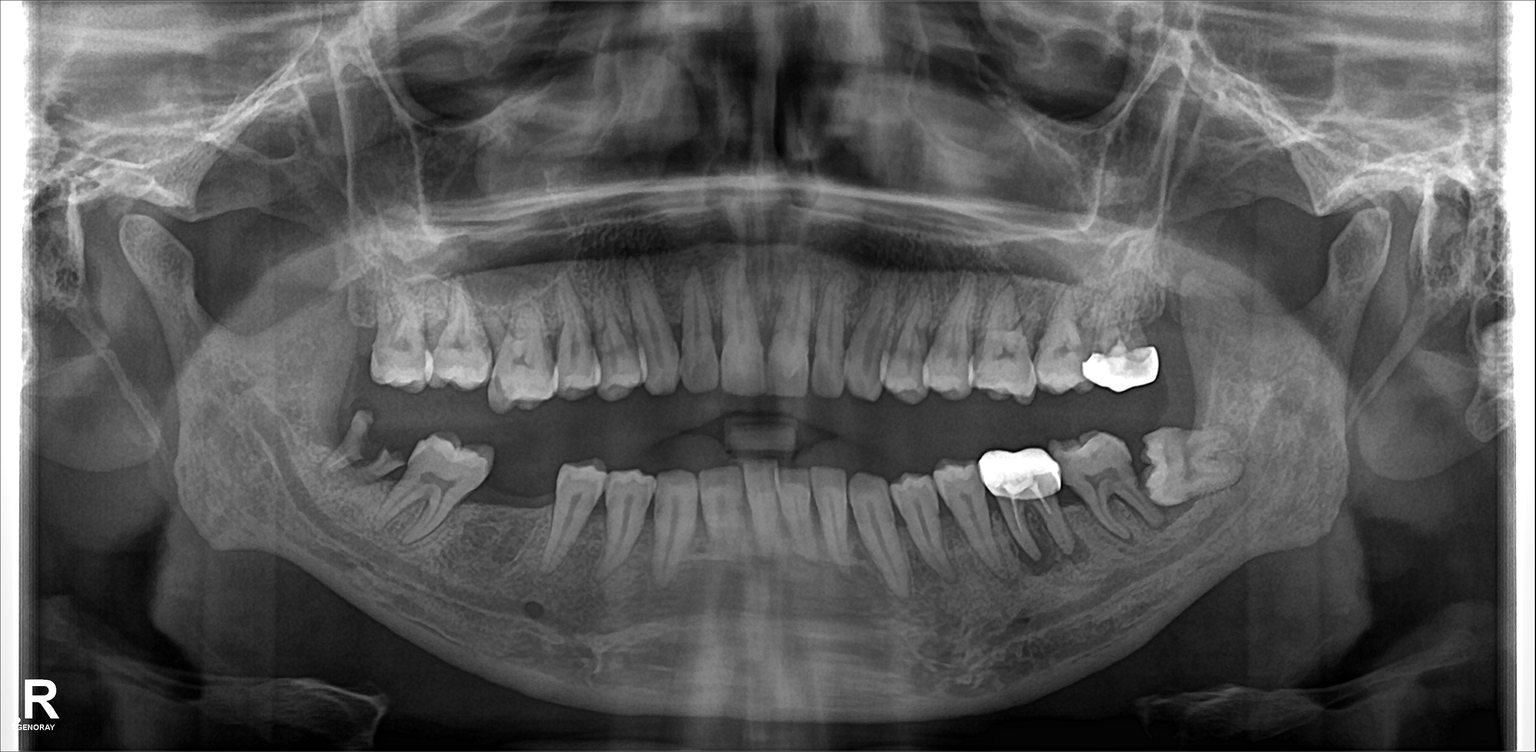Endodontically Treated Tooth: (985, 454, 1056, 550), (1095, 292, 1153, 389)
Impacted Third Molar: (1145, 428, 1253, 500)
Missing Tooth: (490, 450, 556, 559), (345, 309, 375, 377)
Periapical Lesion: (1004, 508, 1097, 584)
Retained Root: (326, 406, 368, 486), (372, 426, 407, 486)
